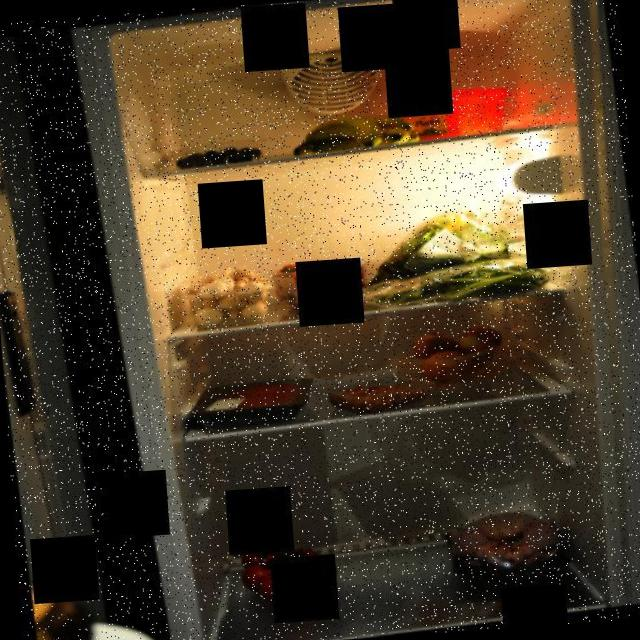Carne pollo: (441, 501, 579, 594)
Carne vacuno: (203, 375, 304, 423)
Cebolla: (406, 318, 508, 386)
Champiñones: (182, 261, 282, 333)
Gambas/Langostinos: (326, 372, 432, 417)
Mantequilla: (388, 84, 524, 143)
Plátano: (286, 111, 422, 163)
Tomate: (236, 530, 347, 606)
